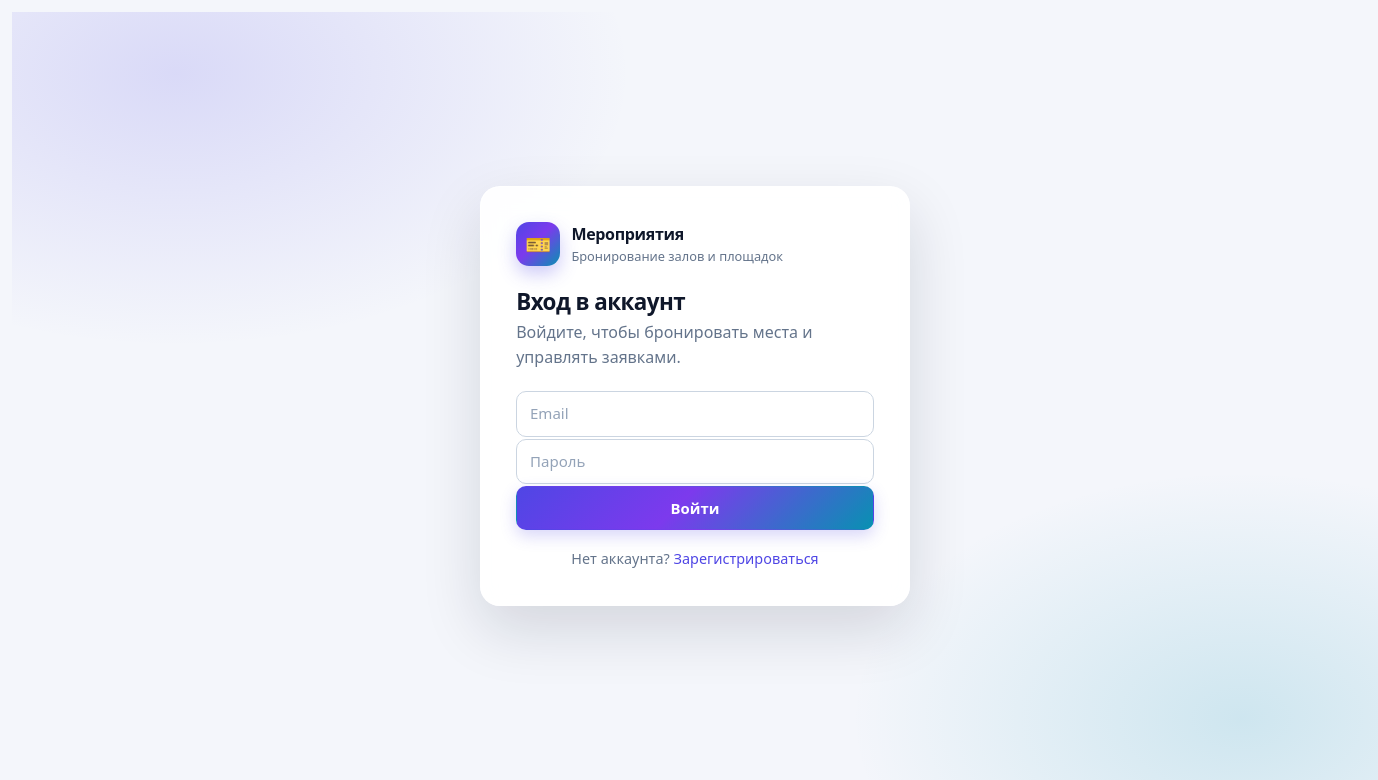
Test case: Login › после успешного входа переходит в каталог
Type "client@example.com" into the field with placeholder "Email" at (695, 414), box [516,392,874,437]
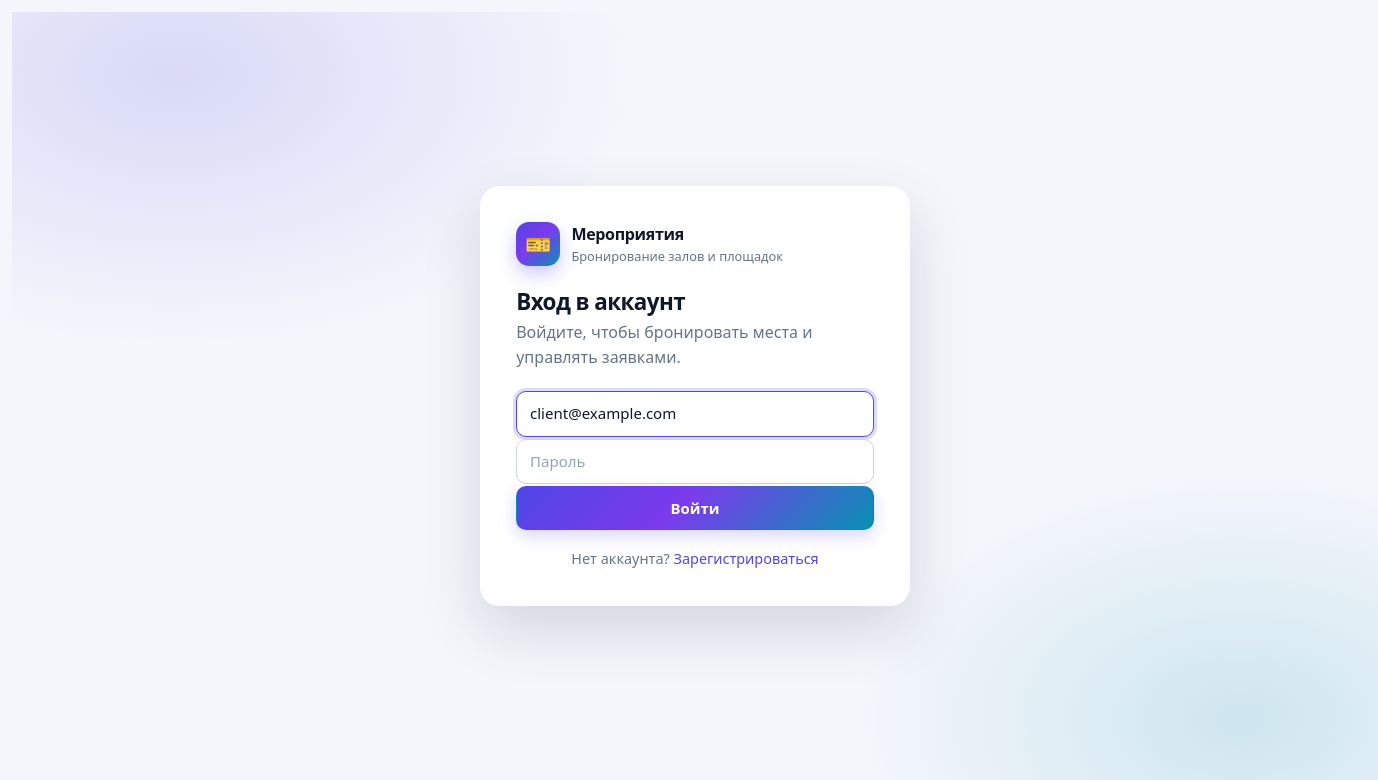
Type "ClientPass123!" into the password field with placeholder "Пароль" at (695, 462), box [516,439,874,484]
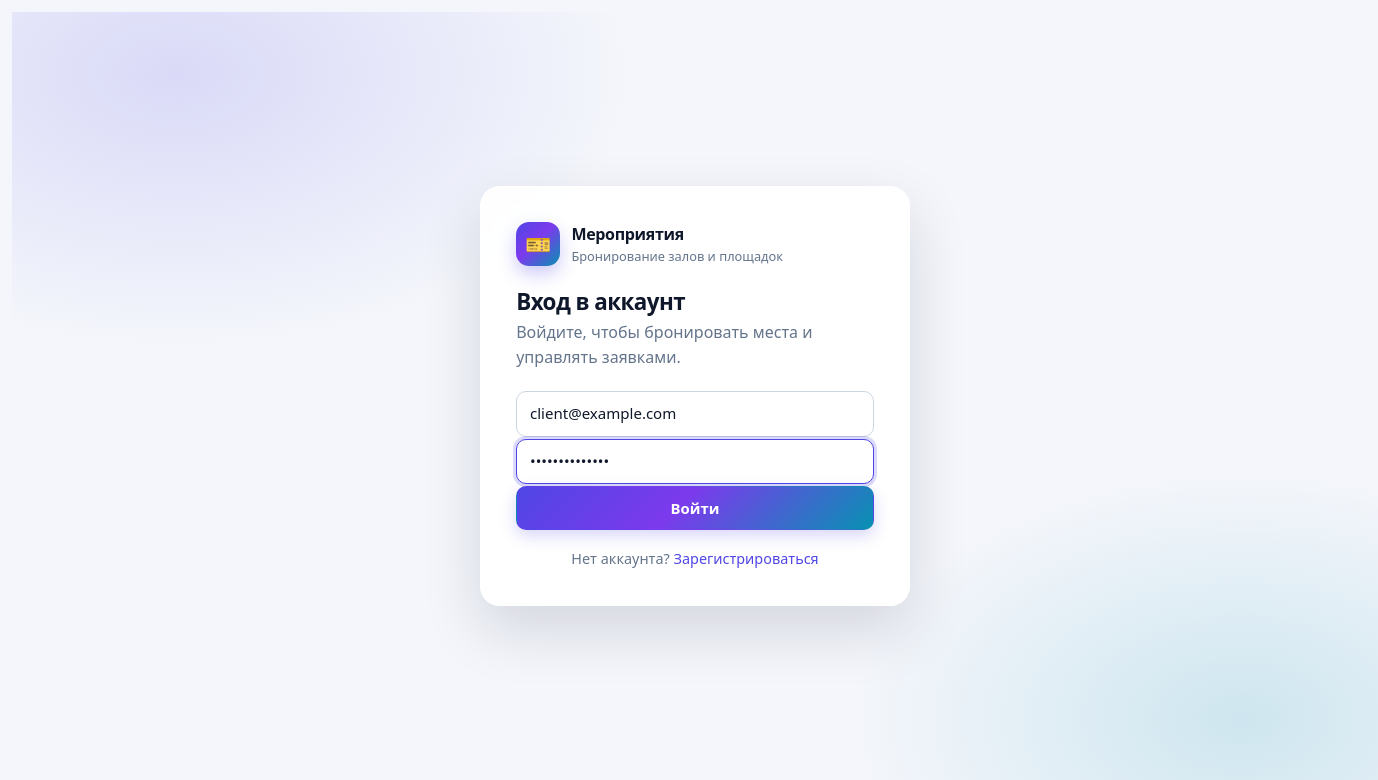
Click the button "Войти" at (695, 508), box [516,486,874,530]
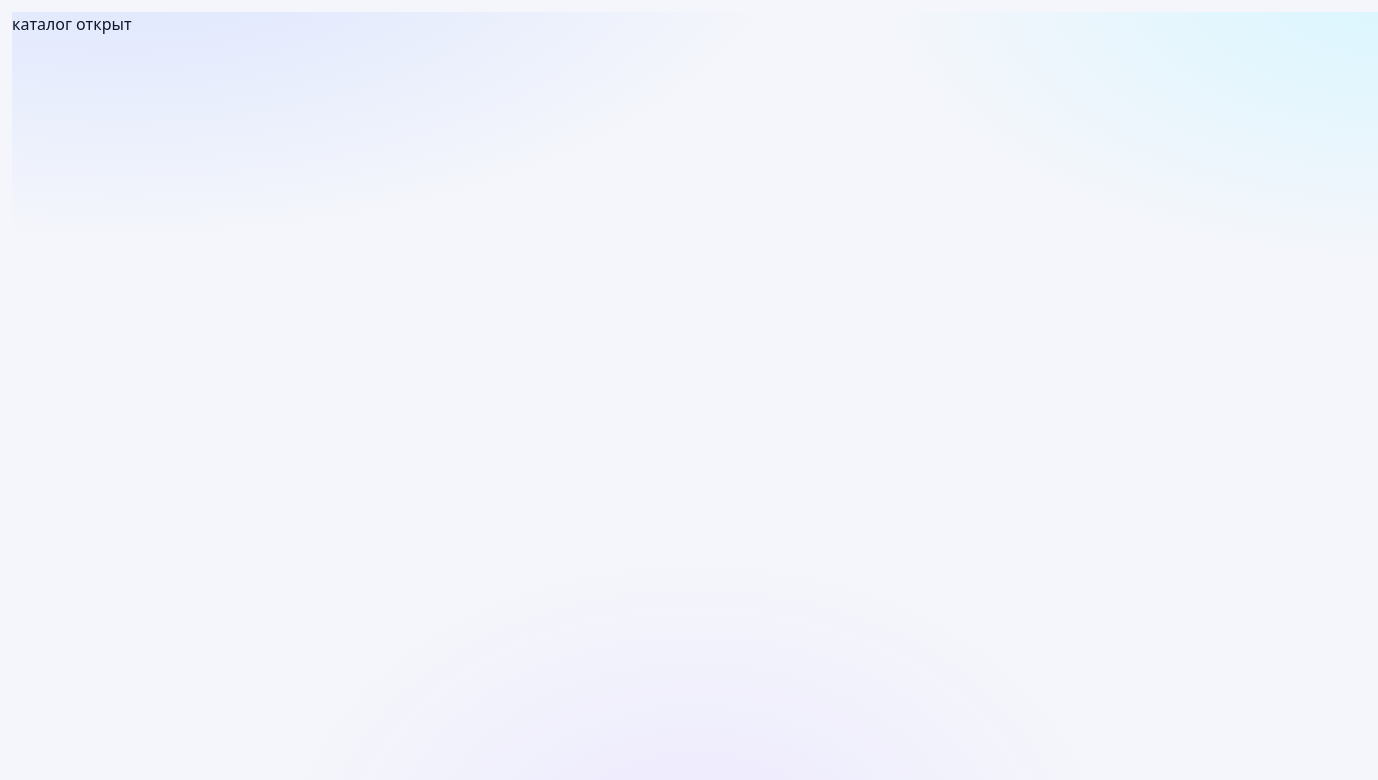
Now the text "каталог открыт" is shown, box [12,13,132,35]
